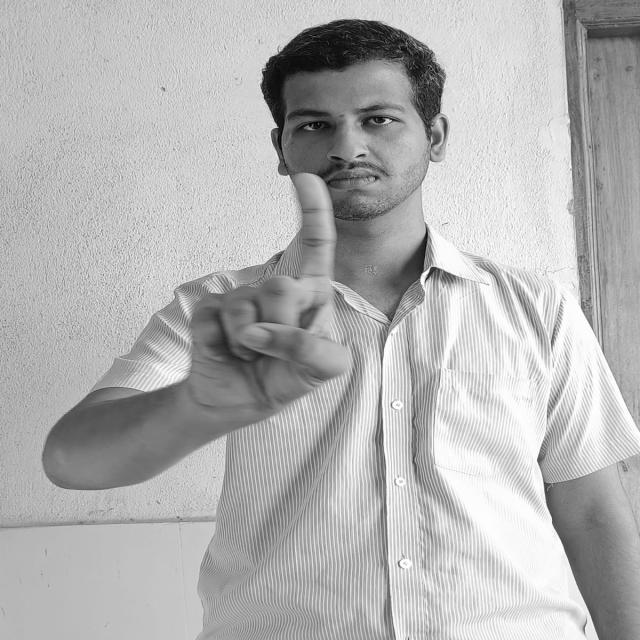Question: (187, 173, 359, 417)
